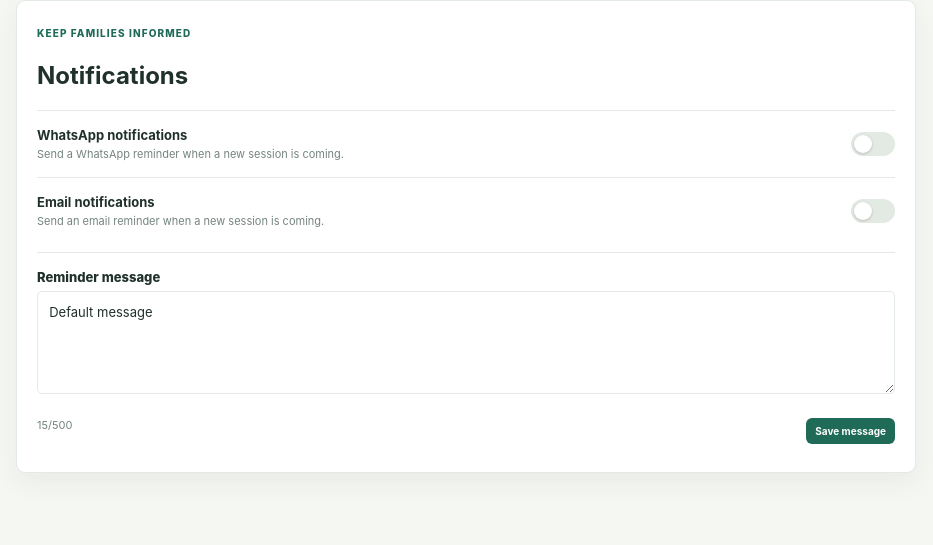
Test: starts in edit mode without a saved message and switches to view mode after saving
The width and height of the screenshot is (933, 545).
Expected: the button "Save message" is shown, [806,418,895,444]
Expected: the button "Edit message" is not shown
Replace the text in the text box showing "Default message" with "Bring your favorite book!": (466, 342) [37,291,895,394]
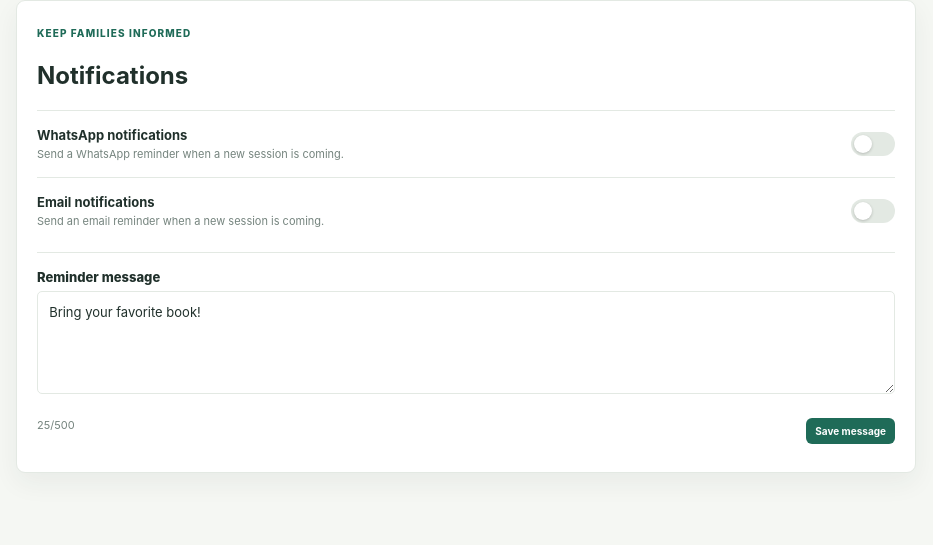
Click the button "Save message": (851, 431) [806,418,895,444]
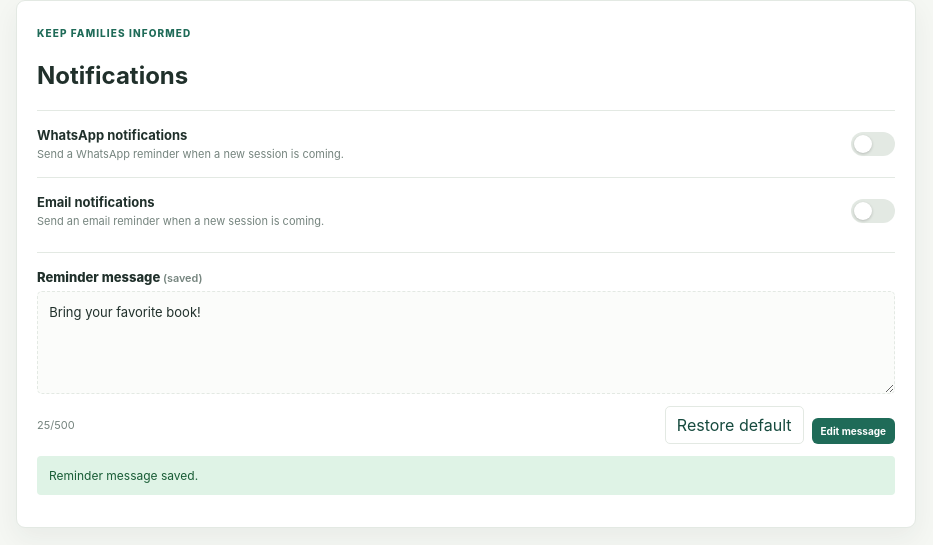
Expected: the text "Reminder message saved." is shown, [37,456,895,495]
Expected: the button "Save message" is gone
Expected: the button "Edit message" is shown, [812,418,895,444]
